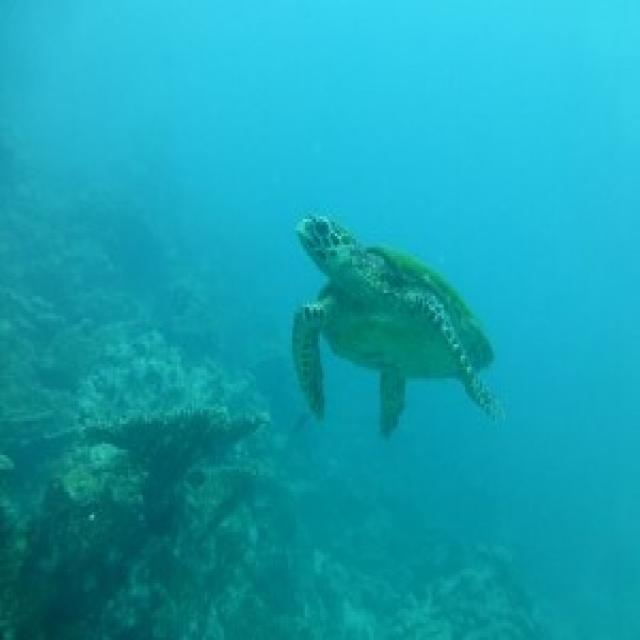Sea turtle: (264, 194, 501, 486)
